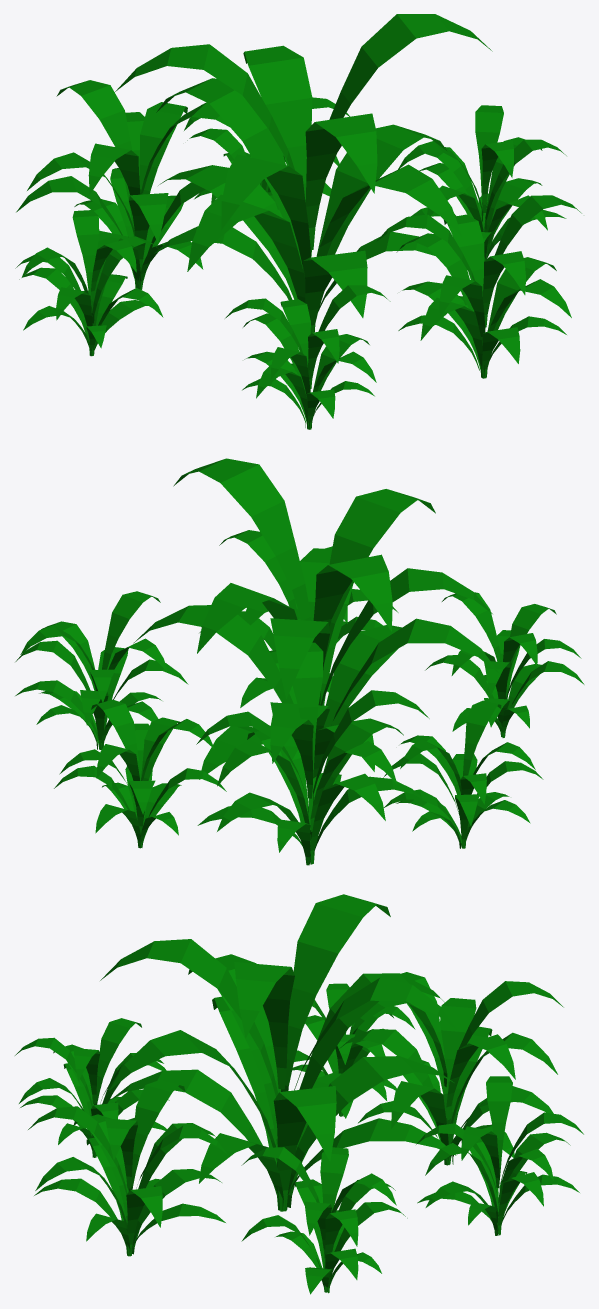
Rendered from bitki.fbx.
3 views of the same model, one above another, from view 1: azimuth 30°, elevation 25°; view 2: azimuth 150°, elevation 25°; view 3: azimuth 270°, elevation 25° (orthographic). The views are drawn at different scales.
Visible parts, largest first — view 1: SM_Bitki.01; view 2: SM_Bitki.01; view 3: SM_Bitki.01.
Boxes of the visible parts, <box> form: SM_Bitki.01: <box>15,14,581,429</box>; SM_Bitki.01: <box>15,458,584,865</box>; SM_Bitki.01: <box>15,894,583,1294</box>.
Bounding box in the file's own units: 157 × 84.88 × 153.
